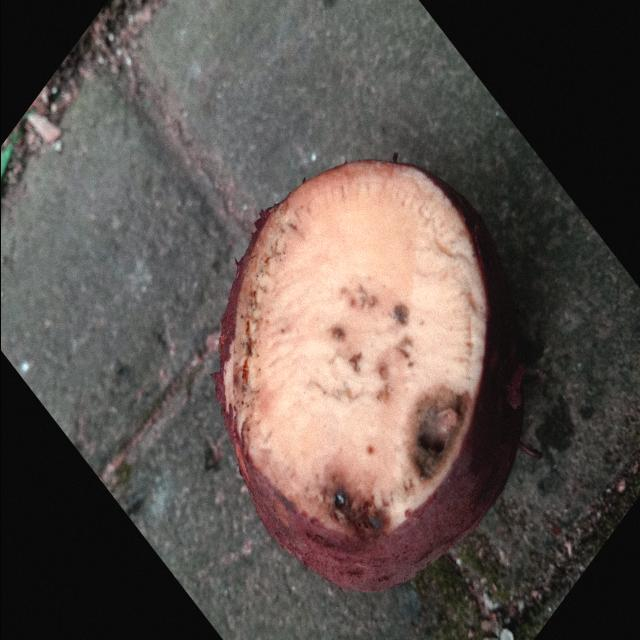Sick Sweet Potato_Tuber Rot: (215, 162, 486, 540)
